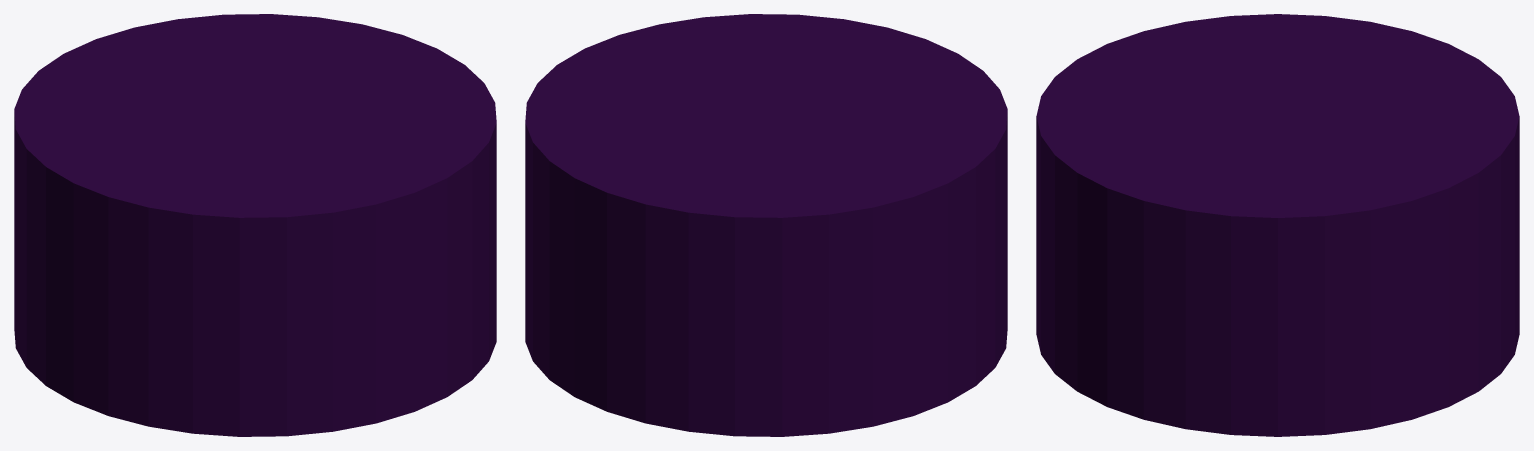
The picture shows the model from 3 angles, left to right: view 1: azimuth 30°, elevation 25°; view 2: azimuth 150°, elevation 25°; view 3: azimuth 270°, elevation 25°; orthographic projection.
Parts seen in each view (by area): view 1: 円柱; view 2: 円柱; view 3: 円柱.
Boxes of the visible parts, x1=… form: 円柱: x1=14, y1=14, x2=496, y2=436; 円柱: x1=525, y1=14, x2=1007, y2=436; 円柱: x1=1036, y1=14, x2=1519, y2=436.
Bounding box in the file's own units: 2 × 1 × 2.
1 material, 1 textured.
